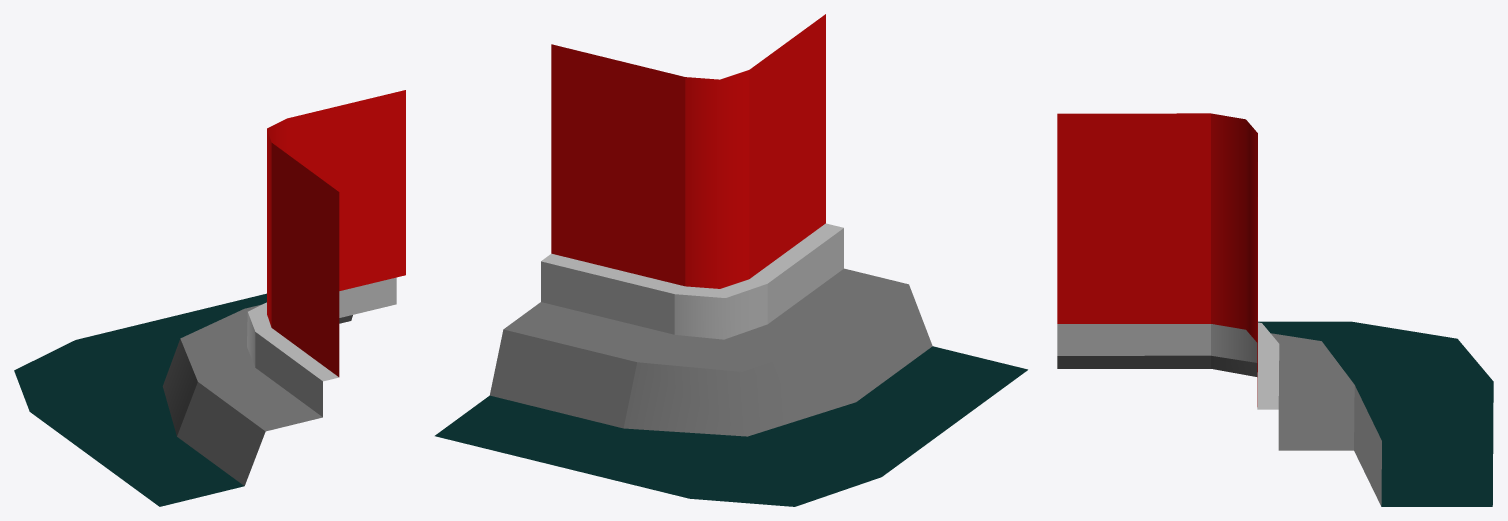
File: curva_interna.fbx
3 renders of one model, left to right at view 1: azimuth 30°, elevation 25°; view 2: azimuth 150°, elevation 25°; view 3: azimuth 270°, elevation 25°, orthographic. The views are drawn at different scales.
Visible parts, largest first — view 1: pieza_curva_interna; view 2: pieza_curva_interna; view 3: pieza_curva_interna.
Boxes of the visible parts, bbox=[...] form: pieza_curva_interna: bbox=[14, 90, 405, 506]; pieza_curva_interna: bbox=[435, 14, 1027, 506]; pieza_curva_interna: bbox=[1057, 113, 1493, 506].
Bounding box in the file's own units: 48.77 × 37.79 × 48.55.
